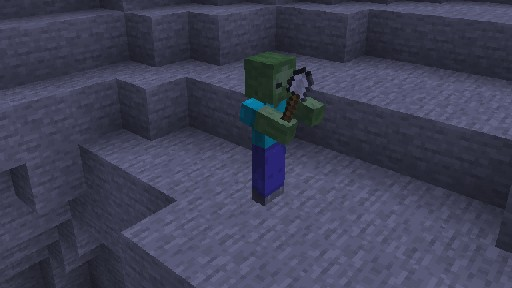zombie: (238, 50, 325, 206)
